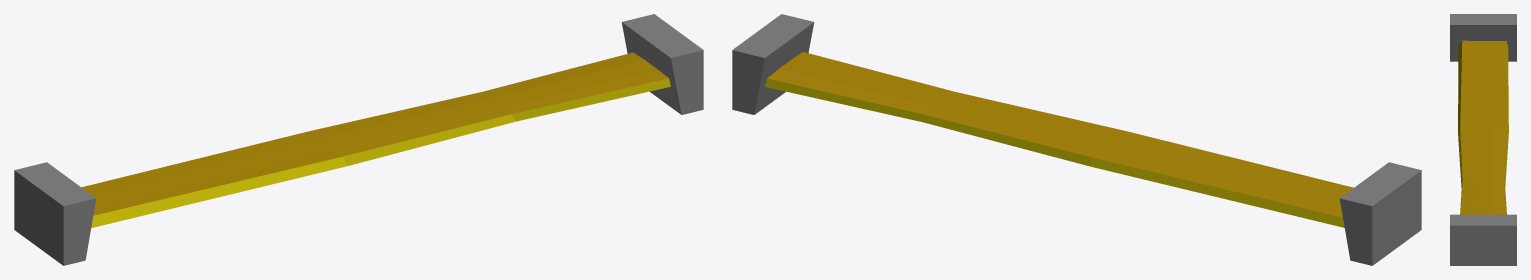
File: wall_bridge_board.glb
The picture shows the model from 3 angles, left to right: view 1: azimuth 30°, elevation 25°; view 2: azimuth 150°, elevation 25°; view 3: azimuth 270°, elevation 25°; orthographic projection. The views are drawn at different scales.
Parts seen in each view (by area): view 1: wall-bridge-board; view 2: wall-bridge-board; view 3: wall-bridge-board.
Boxes of the visible parts, x1,y1,x2,y2 form: wall-bridge-board: [14, 14, 703, 265]; wall-bridge-board: [732, 14, 1421, 265]; wall-bridge-board: [1450, 14, 1516, 265].
Bounding box in the file's own units: 6 × 0.534 × 0.801.
